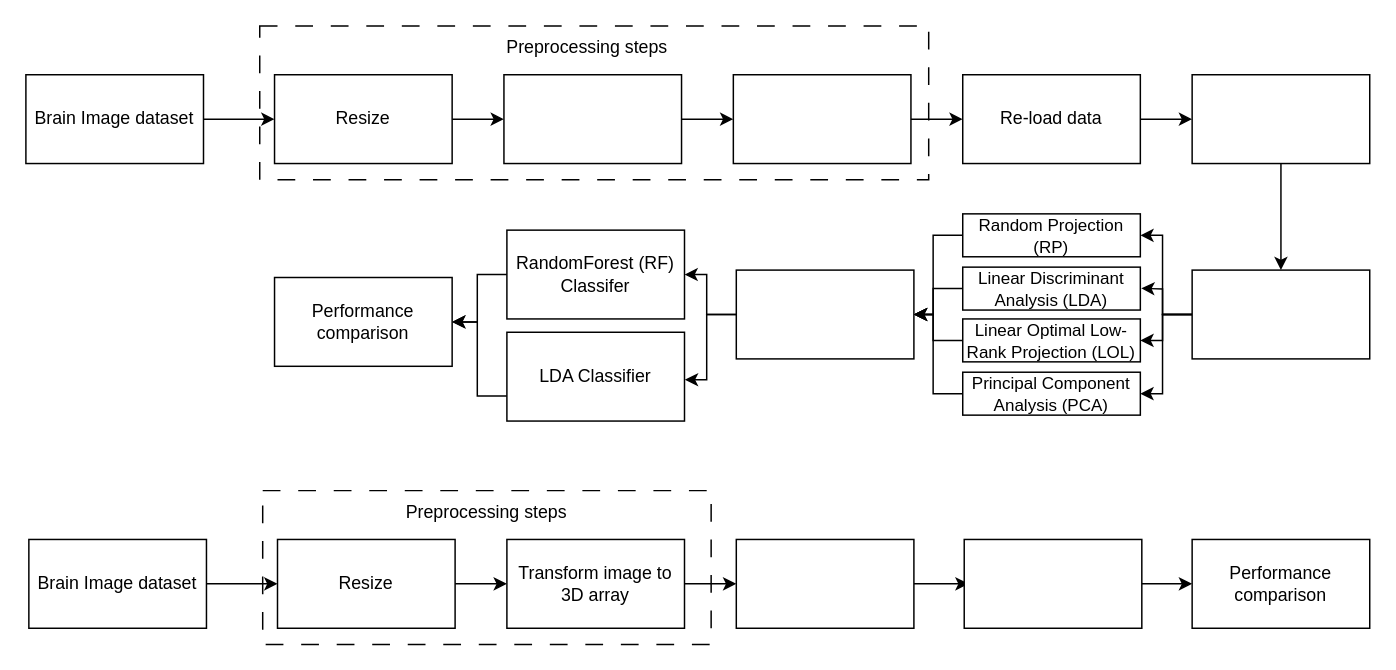
The diagram is 1396 pixels wide and 670 high, and some of its shapes have lost their labels. The centre of each missing label's shape, as x and y in pixels:
"Apply feature reduction" goes at (x=1280, y=314).
"CNN modeling" goes at (x=1052, y=583).
"Flatten image to 1D array" goes at (x=592, y=118).
"Modeling" goes at (x=824, y=314).
"Save resized data in npy and info in csv" goes at (x=821, y=118).
"Split and Scale data" goes at (x=1280, y=118).
"Split data" goes at (x=824, y=583).
